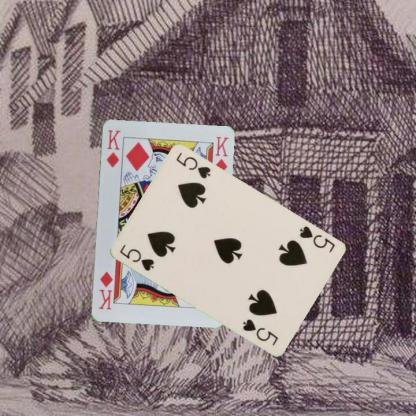5s: (296, 223, 336, 254), (116, 242, 156, 272)
Kd: (103, 127, 121, 168)
